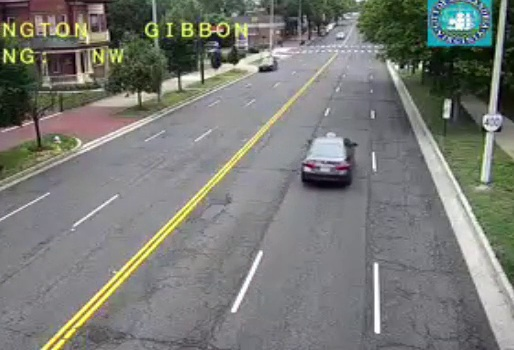car: (300, 136, 352, 181)
